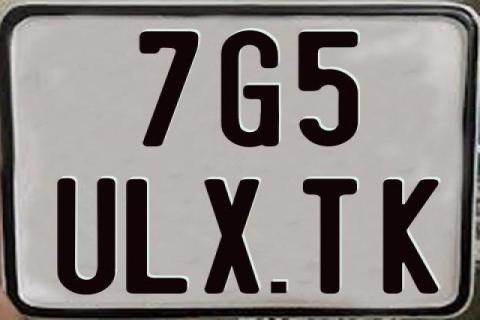0: (297, 31, 360, 149), (137, 31, 201, 146)
G: (219, 28, 280, 148)
K: (382, 179, 444, 297)
L: (126, 180, 191, 298)
T: (302, 176, 361, 294)
U: (55, 177, 116, 299)
X: (204, 178, 260, 294)
